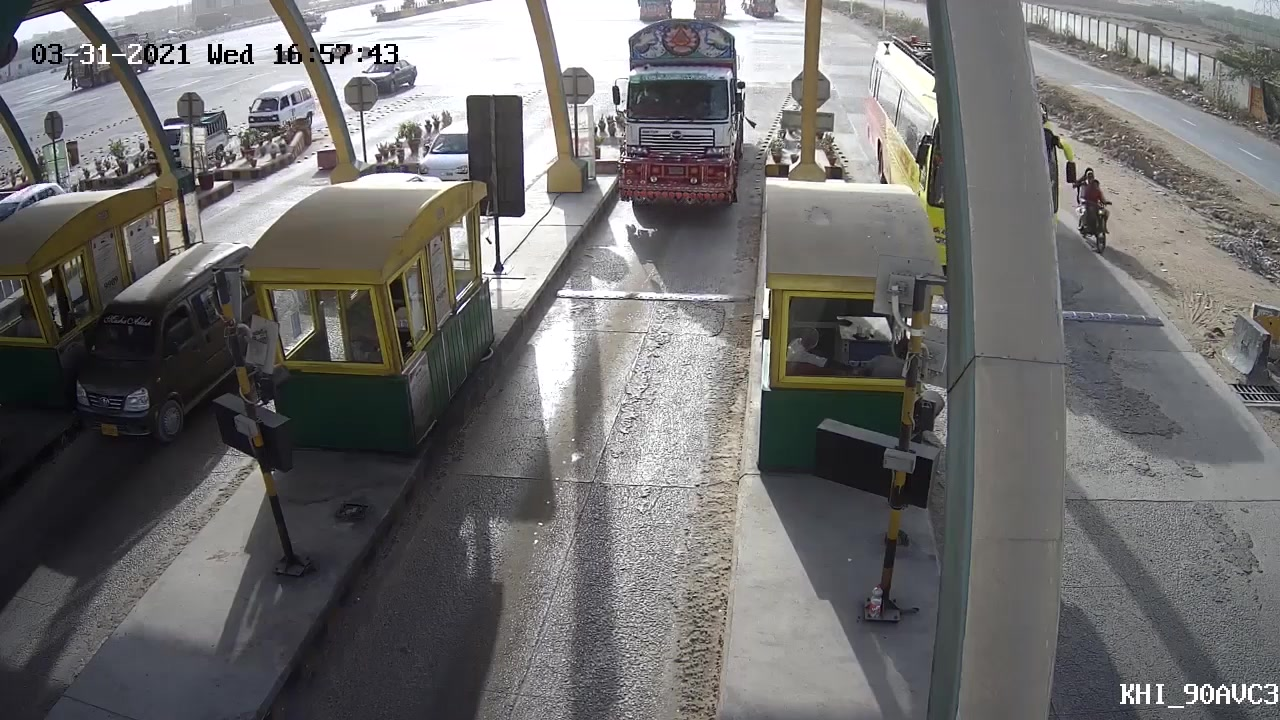F5: (601, 20, 756, 209)
